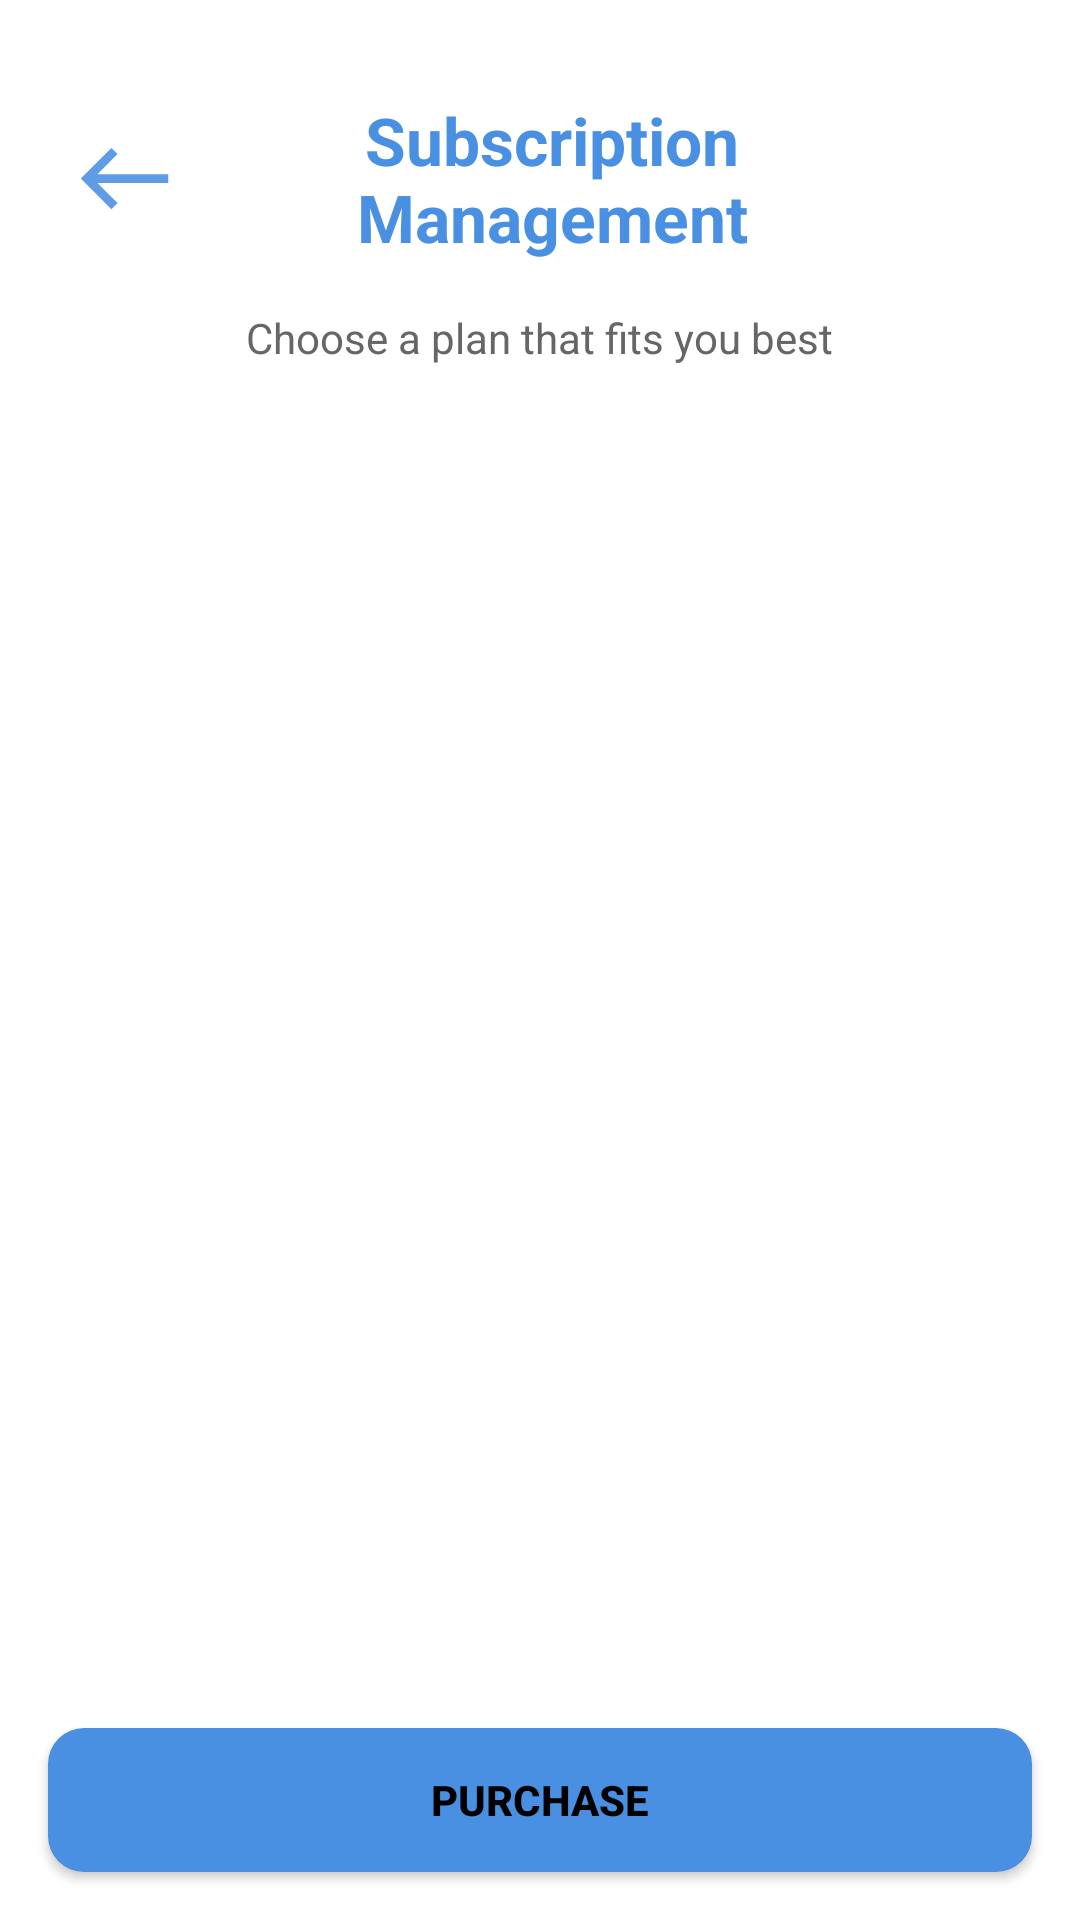

Screen size 1080 x 1920. Icon name, then its center in pixels as (x=x, y=y):
arrow back: (x=125, y=178)
